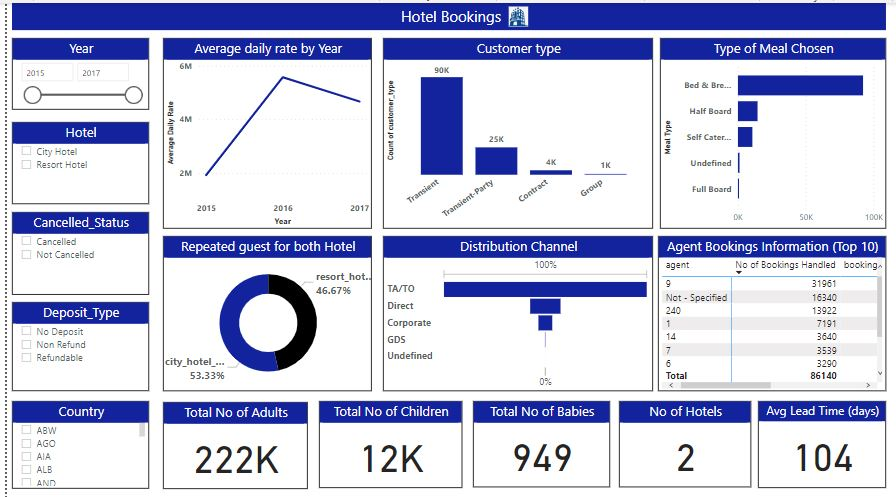

The page's visual inventory and layout, read from the dashboard file:
{"tool":"powerbi","page":{"name":"Dashboard","canvas":[1280,720],"ordinal":1},"visuals":[{"type":"card","title":"No of Hotels","fields":{"Values":["hotel_bookings.Total No of Hotel"]},"box":[879.5,572,189.7,123.6],"z":0},{"type":"donutChart","title":"Repeated guest for both Hotel","fields":{"Y":["hotel_bookings.resort_hotel_repeated_guest","hotel_bookings.city_hotel_repeated_guest"]},"box":[224.2,334.9,300.4,222.8],"z":1000},{"type":"slicer","title":"Hotel","fields":{"Values":["hotel_bookings.hotel"]},"box":[7.2,171,196.9,117.8],"z":2000},{"type":"columnChart","title":"Customer type","fields":{"Category":["hotel_bookings.customer_type"],"Y":["CountNonNull(hotel_bookings.customer_type)"]},"box":[540.4,50.3,388,274.5],"z":3000},{"type":"barChart","title":"Type of Meal Chosen","fields":{"Y":["CountNonNull(hotel_bookings.Meal Full)"],"Category":["hotel_bookings.Meal Full"]},"box":[938.4,50.3,324.8,274.5],"z":4000},{"type":"funnel","title":"Distribution Channel","fields":{"Category":["hotel_bookings.distribution_channel"],"Y":["CountNonNull(hotel_bookings.distribution_channel)"]},"box":[540.4,334.9,388,222.8],"z":5000},{"type":"lineChart","title":"Average daily rate by Year","fields":{"Category":["hotel_bookings.arrival_date_year"],"Y":["Sum(hotel_bookings.adr)"]},"box":[224.2,50.3,300.4,274.5],"z":6000},{"type":"slicer","title":"Cancelled_Status","fields":{"Values":["hotel_bookings.cancelled_status"]},"box":[7.2,300.4,196.9,119.3],"z":7000},{"type":"slicer","title":"Year","fields":{"Values":["hotel_bookings.arrival_date_year"]},"box":[7.2,50.3,196.9,103.5],"z":8000},{"type":"card","title":"Total No of Adults","fields":{"Values":["Sum(hotel_bookings.adults)"]},"box":[224.2,573.4,208.4,125],"z":9000},{"type":"card","title":"Total No of Children","fields":{"Values":["Sum(hotel_bookings.children)"]},"box":[448.4,572,205.5,125],"z":10000},{"type":"card","title":"Total No of Babies","fields":{"Values":["Sum(hotel_bookings.babies)"]},"box":[669.7,572,196.9,123.6],"z":11000},{"type":"slicer","title":"Deposit_Type","fields":{"Values":["hotel_bookings.deposit_type"]},"box":[7.2,429.7,196.9,127.9],"z":12000},{"type":"slicer","title":"Country","fields":{"Values":["hotel_bookings.country"]},"box":[7.2,572,196.9,126.5],"z":13000},{"type":"card","title":"Avg Lead Time (days)","fields":{"Values":["Avg(hotel_bookings.lead_time)"]},"box":[1079.3,572,184,125],"z":14000},{"type":"textbox","box":[7.2,0,1256,38.8],"z":15000},{"type":"image","box":[697,0,74.7,38.8],"z":16000},{"type":"pivotTable","title":"Agent Bookings Information (Top 10)","fields":{"Rows":["hotel_bookings.agent"],"Values":["CountNonNull(hotel_bookings.agent)","Sum(hotel_bookings.booking_changes)","Sum(hotel_bookings.previous_cancellations)"]},"box":[935.6,334.9,327.7,222.8],"z":17000}]}

Visuals, with their boxes in screenshot pixels (x1, y1, x2, y2), scaled from the page's 1280x720 canvas onto the 896x497 screenshot:
"No of Hotels" card: [x1=616, y1=395, x2=748, y2=480]
"Repeated guest for both Hotel" donutChart: [x1=157, y1=231, x2=367, y2=385]
"Hotel" slicer: [x1=5, y1=118, x2=143, y2=199]
"Customer type" columnChart: [x1=378, y1=35, x2=650, y2=224]
"Type of Meal Chosen" barChart: [x1=657, y1=35, x2=884, y2=224]
"Distribution Channel" funnel: [x1=378, y1=231, x2=650, y2=385]
"Average daily rate by Year" lineChart: [x1=157, y1=35, x2=367, y2=224]
"Cancelled_Status" slicer: [x1=5, y1=207, x2=143, y2=290]
"Year" slicer: [x1=5, y1=35, x2=143, y2=106]
"Total No of Adults" card: [x1=157, y1=396, x2=303, y2=482]
"Total No of Children" card: [x1=314, y1=395, x2=458, y2=481]
"Total No of Babies" card: [x1=469, y1=395, x2=607, y2=480]
"Deposit_Type" slicer: [x1=5, y1=297, x2=143, y2=385]
"Country" slicer: [x1=5, y1=395, x2=143, y2=482]
"Avg Lead Time (days)" card: [x1=756, y1=395, x2=884, y2=481]
textbox: [x1=5, y1=0, x2=884, y2=27]
image: [x1=488, y1=0, x2=540, y2=27]
"Agent Bookings Information (Top 10)" pivotTable: [x1=655, y1=231, x2=884, y2=385]
